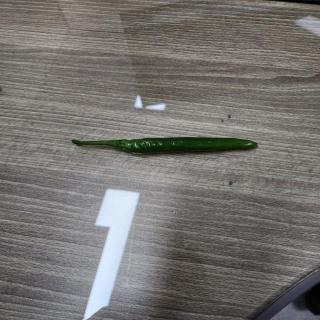Cabai Hijau: (63, 122, 271, 169)
